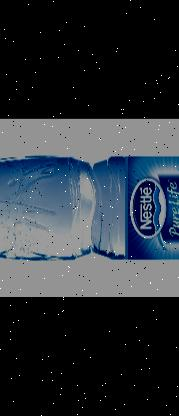Plastic Bottle: (0, 156, 179, 260)
